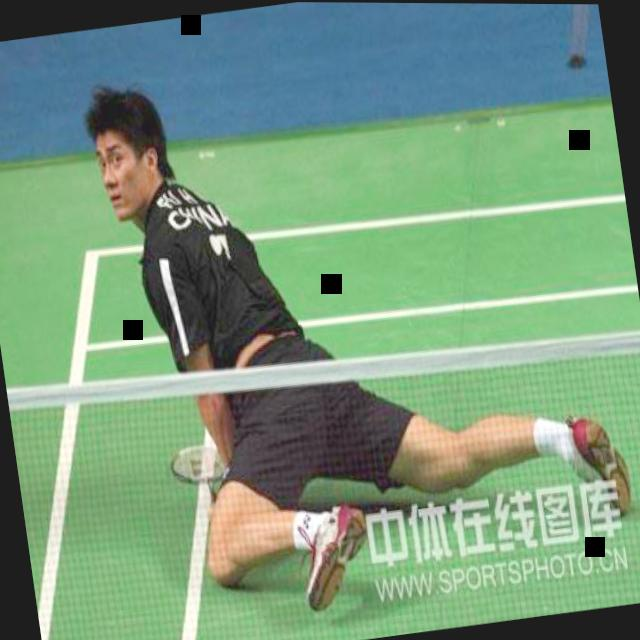Fall-Detected: (57, 0, 640, 638)
